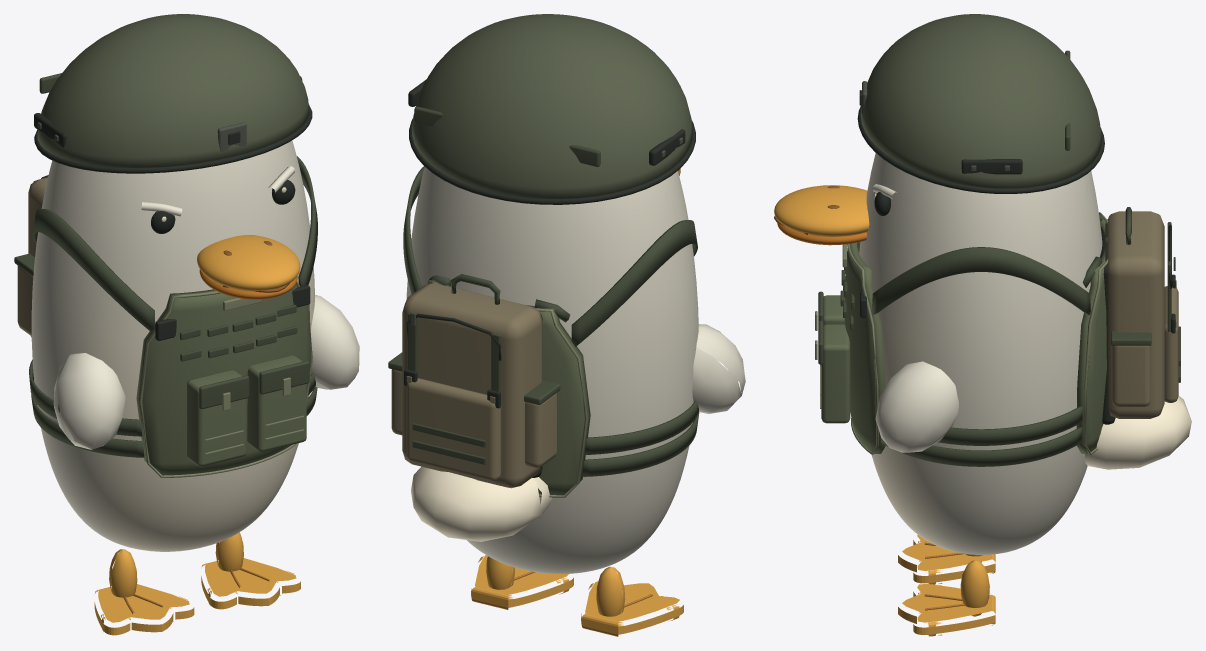
The model's file is goose-field-kit.glb.
The picture shows the model from 3 angles, left to right: view 1: azimuth 30°, elevation 25°; view 2: azimuth 150°, elevation 25°; view 3: azimuth 270°, elevation 25°; orthographic projection. The views are drawn at different scales.
Visible parts, largest first — view 1: goose_torso_mesh, goose_vest_field_mesh, goose_helmet_field_mesh, goose_leftArm_mesh, goose_beak_mesh, goose_leftFoot_mesh, goose_rightFoot_mesh, goose_rightArm_mesh, goose_pack_field_mesh; view 2: goose_torso_mesh, goose_helmet_field_mesh, goose_pack_field_mesh, goose_vest_field_mesh, goose_tail_mesh, goose_leftFoot_mesh, goose_leftArm_mesh, goose_rightFoot_mesh; view 3: goose_torso_mesh, goose_helmet_field_mesh, goose_vest_field_mesh, goose_pack_field_mesh, goose_rightArm_mesh, goose_beak_mesh, goose_tail_mesh, goose_rightFoot_mesh, goose_leftFoot_mesh.
Boxes of the visible parts, <box> form: goose_torso_mesh: <box>31,140,314,551</box>; goose_vest_field_mesh: <box>29,156,317,477</box>; goose_helmet_field_mesh: <box>34,14,312,173</box>; goose_leftArm_mesh: <box>53,353,125,449</box>; goose_beak_mesh: <box>197,235,300,299</box>; goose_leftFoot_mesh: <box>94,549,194,635</box>; goose_rightFoot_mesh: <box>201,532,300,609</box>; goose_rightArm_mesh: <box>310,295,359,389</box>; goose_pack_field_mesh: <box>14,175,48,337</box>; goose_torso_mesh: <box>406,167,698,573</box>; goose_helmet_field_mesh: <box>408,14,695,204</box>; goose_pack_field_mesh: <box>388,274,570,488</box>; goose_vest_field_mesh: <box>403,166,699,497</box>; goose_tail_mesh: <box>411,466,552,541</box>; goose_leftFoot_mesh: <box>581,566,683,636</box>; goose_leftArm_mesh: <box>692,324,745,413</box>; goose_rightFoot_mesh: <box>471,555,573,609</box>; goose_torso_mesh: <box>859,153,1102,554</box>; goose_helmet_field_mesh: <box>857,14,1104,193</box>; goose_vest_field_mesh: <box>815,212,1108,466</box>; goose_pack_field_mesh: <box>1082,207,1180,424</box>; goose_rightArm_mesh: <box>875,361,958,452</box>; goose_beak_mesh: <box>774,185,869,245</box>; goose_tail_mesh: <box>1085,396,1191,469</box>; goose_rightFoot_mesh: <box>898,560,995,636</box>; goose_leftFoot_mesh: <box>898,535,995,584</box>.
Size of the model in its own units: 1.1 by 2.03 by 1.37.
